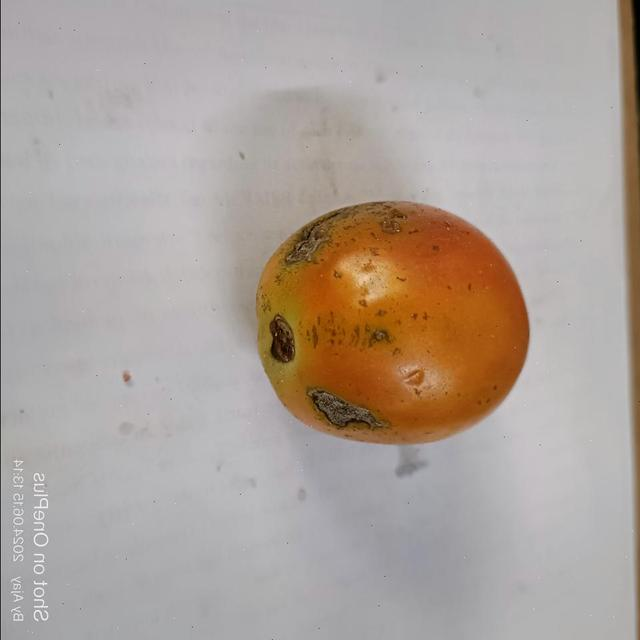Bacterial Spot Fruit: (23, 22, 254, 276)
